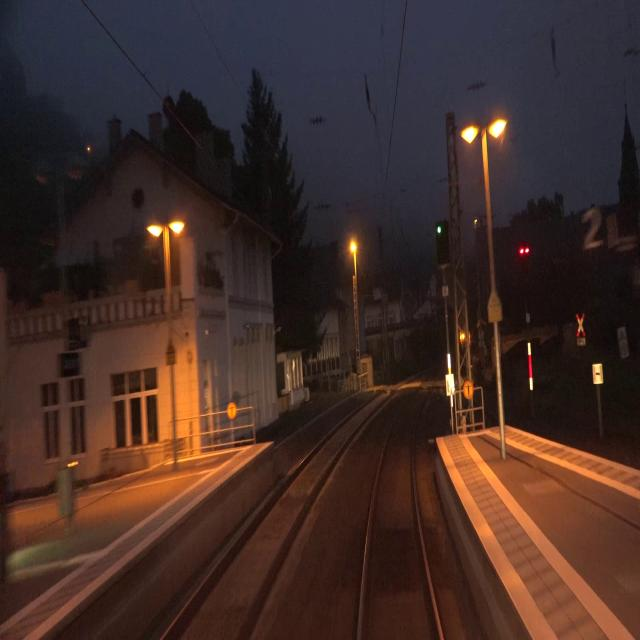rail-track: (166, 393, 386, 639), (362, 373, 438, 639)
